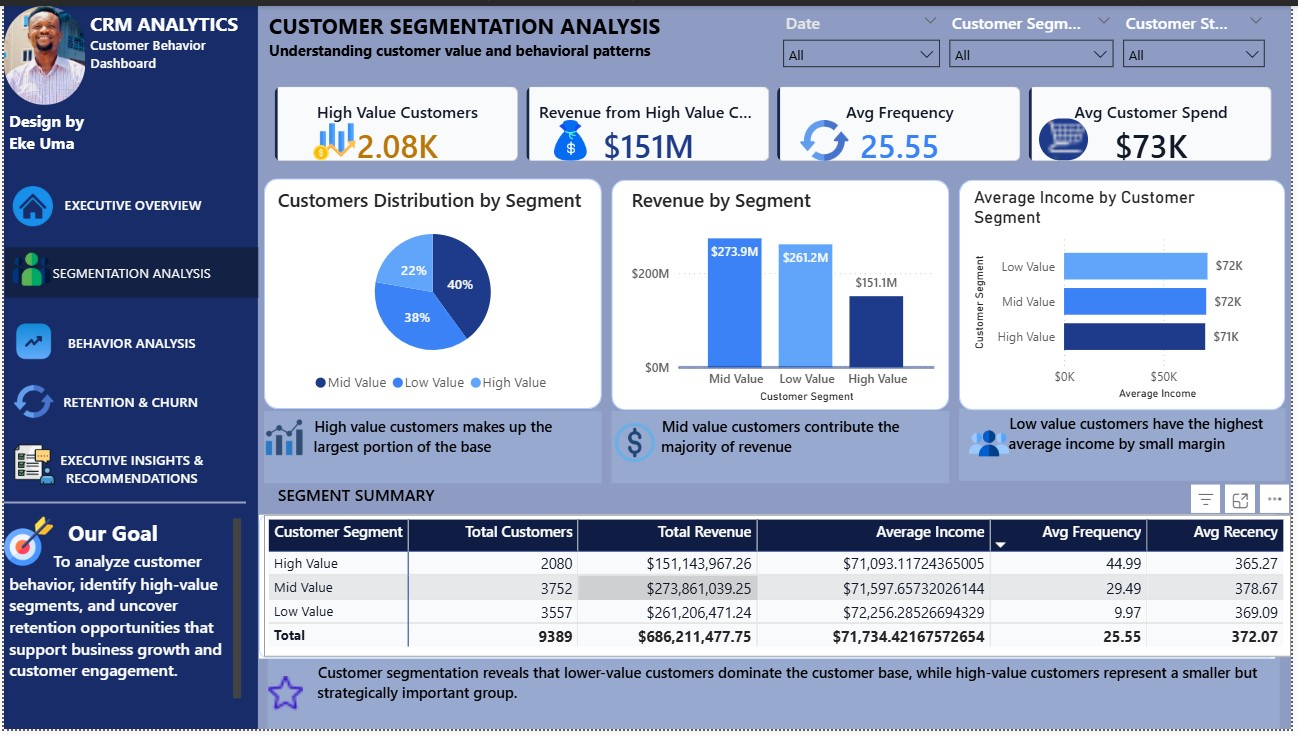

This screenshot's page, from the dashboard's own definition file:
{"tool":"powerbi","page":{"name":"SEGMENTATION ANALYSIS","canvas":[1280,720],"ordinal":1},"visuals":[{"type":"shape","box":[258.3,171.7,336.2,229.4],"z":0},{"type":"shape","box":[253.9,506.4,1011.4,142.8],"z":1000},{"type":"cardVisual","fields":{"Data":["Customer Intelligence & Segmentation Analytics - Customer Intelligence & Segment.High Value Customers","Customer Intelligence & Segmentation Analytics - Customer Intelligence & Segment.High Value Revenue","Customer Intelligence & Segmentation Analytics - Customer Intelligence & Segment.Avg Frequency","Customer Intelligence & Segmentation Analytics - Customer Intelligence & Segment.Avg Customer Spend"]},"box":[252.5,63.5,1027.2,108.2],"z":2000},{"type":"shape","box":[0,0,252.5,719.9],"z":3000},{"type":"textbox","box":[258.3,0,405.4,66.4],"z":4000},{"type":"textbox","box":[258.3,402.5,336.2,72.1],"z":5000},{"type":"slicer","fields":{"Values":["Customer Intelligence & Segmentation Analytics - Customer Intelligence & Segment.Last Purchase Date"]},"box":[764.7,0,176,63.5],"z":6000},{"type":"slicer","fields":{"Values":["Customer Intelligence & Segmentation Analytics - Customer Intelligence & Segment.Customer Segment"]},"box":[930.6,0,183.2,63.5],"z":7000},{"type":"slicer","fields":{"Values":["Customer Intelligence & Segmentation Analytics - Customer Intelligence & Segment.Customer Status"]},"box":[1103.7,0,161.6,69.3],"z":8000},{"type":"textbox","box":[0,98.1,121.2,56.3],"z":9000},{"type":"image","box":[0,0,80.8,98.1],"z":10000},{"type":"image","box":[1030.1,112.5,49.1,41.8],"z":11000},{"type":"textbox","box":[80.8,0,177.5,80.8],"z":12000},{"type":"textbox","box":[0,505,240.9,197.7],"z":13000},{"type":"image","box":[532.4,112.5,62,43.3],"z":14000},{"type":"image","box":[294.3,114,67.8,41.8],"z":15000},{"type":"shape","box":[604.5,173.1,336.2,229.4],"z":16000},{"type":"shape","box":[950.8,173.1,324.6,229.4],"z":17000},{"type":"barChart","fields":{"Category":["Customer Intelligence & Segmentation Analytics - Customer Intelligence & Segment.Customer Segment"],"Y":["Customer Intelligence & Segmentation Analytics - Customer Intelligence & Segment.Average Income"]},"box":[960.9,180.3,300.1,216.4],"z":18000},{"type":"columnChart","title":"Revenue by Segment","fields":{"Category":["Customer Intelligence & Segmentation Analytics - Customer Intelligence & Segment.Customer Segment"],"Y":["Customer Intelligence & Segmentation Analytics - Customer Intelligence & Segment.Total Revenue"]},"box":[618.9,180.3,311.6,219.3],"z":19000},{"type":"image","box":[792.1,105.3,47.6,56.3],"z":20000},{"type":"textbox","box":[604.5,402.5,336.2,72.1],"z":21000},{"type":"textbox","box":[950.8,401.1,324.6,72.1],"z":22000},{"type":"pivotTable","fields":{"Rows":["Customer Intelligence & Segmentation Analytics - Customer Intelligence & Segment.Customer Segment"],"Values":["Customer Intelligence & Segmentation Analytics - Customer Intelligence & Segment.Total Customers","Customer Intelligence & Segmentation Analytics - Customer Intelligence & Segment.Total Revenue","Customer Intelligence & Segmentation Analytics - Customer Intelligence & Segment.Average Income","Customer Intelligence & Segmentation Analytics - Customer Intelligence & Segment.Avg Frequency","Customer Intelligence & Segmentation Analytics - Customer Intelligence & Segment.Avg Recency"]},"box":[258.3,506.4,1021.5,141.4],"z":23000},{"type":"textbox","box":[262.6,647.8,1007,72.1],"z":24000},{"type":"textbox","box":[266.9,470.3,177.5,34.6],"z":25000},{"type":"pieChart","title":"Customers Distribution by Segment","fields":{"Category":["Customer Intelligence & Segmentation Analytics - Customer Intelligence & Segment.Customer Segment"],"Y":["Customer Intelligence & Segmentation Analytics - Customer Intelligence & Segment.Customers Count"]},"box":[266.9,180.3,318.9,213.5],"z":26000},{"type":"image","box":[274.1,418.4,54.8,41.8],"z":27000},{"type":"image","box":[604.5,409.7,46.2,50.5],"z":28000},{"type":"image","box":[960.3,408,39.8,54.7],"z":29000},{"type":"image","box":[255.4,666.6,50.5,34.6],"z":30000},{"type":"image","box":[0,505,49.1,54.8],"z":31000},{"type":"pageNavigator","box":[1.4,239.5,252.5,50.5],"z":32000},{"type":"pageNavigator","box":[2.9,173.1,252.5,50.5],"z":33000},{"type":"pageNavigator","box":[1.4,310.2,252.5,50.5],"z":34000},{"type":"pageNavigator","box":[0,367.9,252.5,50.5],"z":35000},{"type":"pageNavigator","box":[1.4,435.7,252.5,50.5],"z":36000},{"type":"shape","box":[0,487.7,240.9,13],"z":37000},{"type":"image","box":[8.7,170.2,40.4,57.7],"z":38000},{"type":"image","box":[8.7,235.2,37.5,53.4],"z":39000},{"type":"image","box":[8.7,308.8,41.8,50.5],"z":40000},{"type":"image","box":[10.1,372.2,39,43.3],"z":41000},{"type":"image","box":[8.7,424.2,43.3,63.5],"z":42000}]}

Visuals, with their boxes in screenshot pixels (x1, y1, x2, y2), scaled from the page's 1280x720 canvas onto the 1298x736 screenshot:
shape: bbox=[262, 176, 603, 410]
shape: bbox=[257, 518, 1283, 664]
cardVisual - Customer Intelligence & Segmentation Analytics - Customer Intelligence & Segment.High Value Customers x Customer Intelligence & Segmentation Analytics - Customer Intelligence & Segment.High Value Revenue: bbox=[256, 65, 1297, 176]
shape: bbox=[0, 0, 256, 735]
textbox: bbox=[262, 0, 673, 68]
textbox: bbox=[262, 411, 603, 485]
slicer - Customer Intelligence & Segmentation Analytics - Customer Intelligence & Segment.Last Purchase Date: bbox=[775, 0, 954, 65]
slicer - Customer Intelligence & Segmentation Analytics - Customer Intelligence & Segment.Customer Segment: bbox=[944, 0, 1129, 65]
slicer - Customer Intelligence & Segmentation Analytics - Customer Intelligence & Segment.Customer Status: bbox=[1119, 0, 1283, 71]
textbox: bbox=[0, 100, 123, 158]
image: bbox=[0, 0, 82, 100]
image: bbox=[1045, 115, 1094, 158]
textbox: bbox=[82, 0, 262, 83]
textbox: bbox=[0, 516, 244, 718]
image: bbox=[540, 115, 603, 159]
image: bbox=[298, 117, 367, 159]
shape: bbox=[613, 177, 954, 411]
shape: bbox=[964, 177, 1293, 411]
barChart - Customer Intelligence & Segmentation Analytics - Customer Intelligence & Segment.Customer Segment x Customer Intelligence & Segmentation Analytics - Customer Intelligence & Segment.Average Income: bbox=[974, 184, 1279, 406]
"Revenue by Segment" columnChart: bbox=[628, 184, 944, 408]
image: bbox=[803, 108, 852, 165]
textbox: bbox=[613, 411, 954, 485]
textbox: bbox=[964, 410, 1293, 484]
pivotTable - Customer Intelligence & Segmentation Analytics - Customer Intelligence & Segment.Customer Segment x Customer Intelligence & Segmentation Analytics - Customer Intelligence & Segment.Total Customers: bbox=[262, 518, 1297, 662]
textbox: bbox=[266, 662, 1287, 735]
textbox: bbox=[271, 481, 451, 516]
"Customers Distribution by Segment" pieChart: bbox=[271, 184, 594, 403]
image: bbox=[278, 428, 334, 470]
image: bbox=[613, 419, 660, 470]
image: bbox=[974, 417, 1014, 473]
image: bbox=[259, 681, 310, 717]
image: bbox=[0, 516, 50, 572]
pageNavigator: bbox=[1, 245, 257, 296]
pageNavigator: bbox=[3, 177, 259, 229]
pageNavigator: bbox=[1, 317, 257, 369]
pageNavigator: bbox=[0, 376, 256, 428]
pageNavigator: bbox=[1, 445, 257, 497]
shape: bbox=[0, 499, 244, 512]
image: bbox=[9, 174, 50, 233]
image: bbox=[9, 240, 47, 295]
image: bbox=[9, 316, 51, 367]
image: bbox=[10, 380, 50, 425]
image: bbox=[9, 434, 53, 499]
